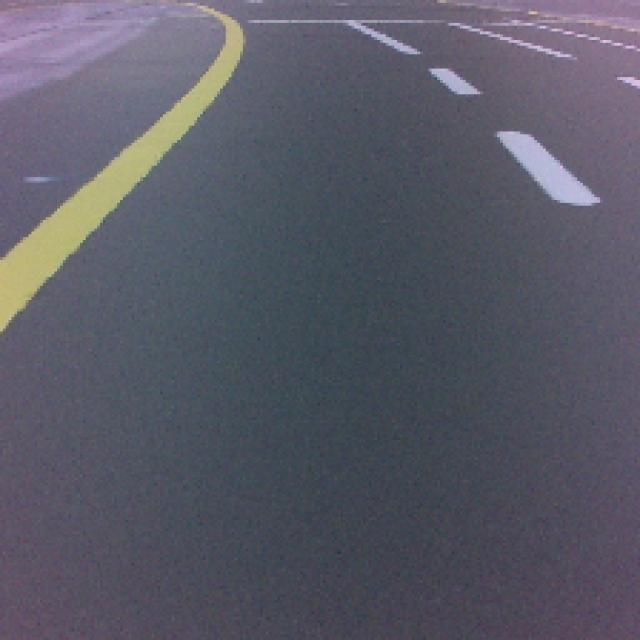Road: (0, 236, 633, 640)
